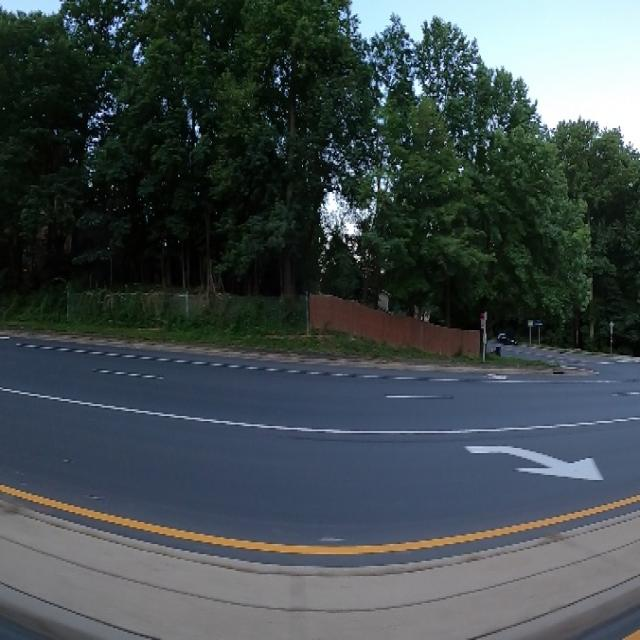cars: (496, 322, 517, 356)
